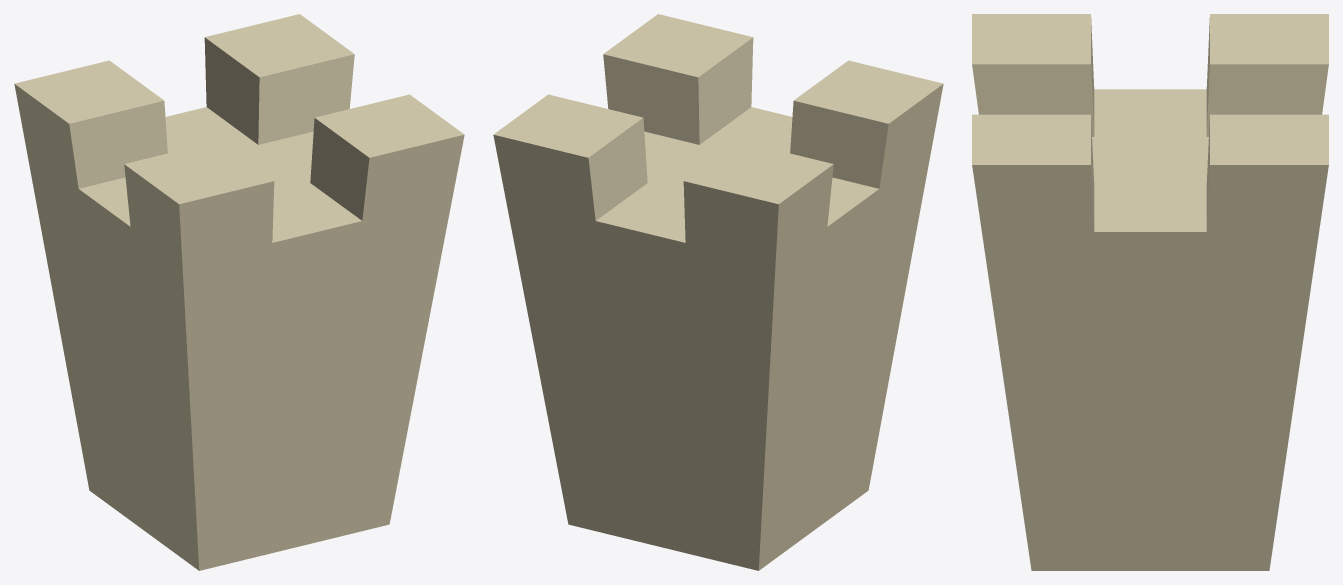
File: Tower.fbx
The picture shows the model from 3 angles, left to right: view 1: azimuth 30°, elevation 25°; view 2: azimuth 150°, elevation 25°; view 3: azimuth 270°, elevation 25°; orthographic projection. The views are drawn at different scales.
Parts seen in each view (by area): view 1: Tower; view 2: Tower; view 3: Tower.
Boxes of the visible parts, <box> form: Tower: <box>14,14,464,570</box>; Tower: <box>493,14,943,570</box>; Tower: <box>972,14,1328,570</box>.
Bounding box in the file's own units: 90 × 120 × 90.
